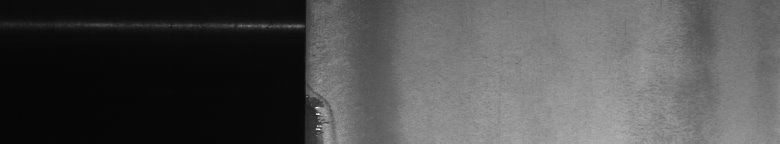hb: (316, 44, 344, 136)
